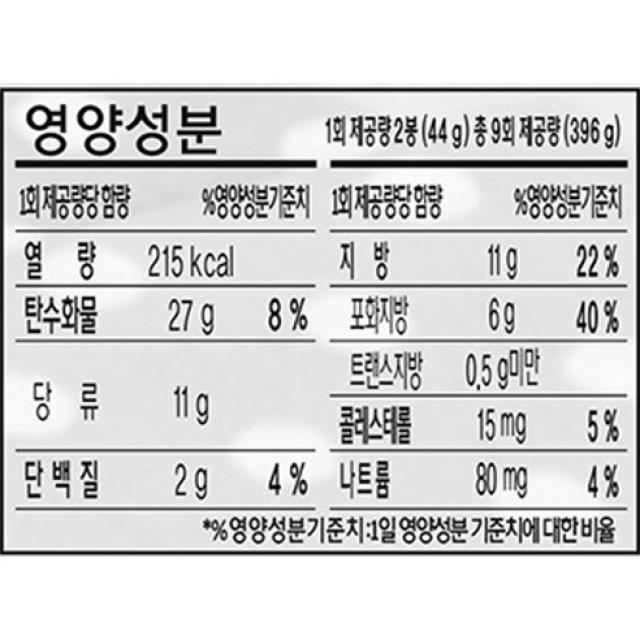Nutrition Label: (2, 78, 640, 561)
